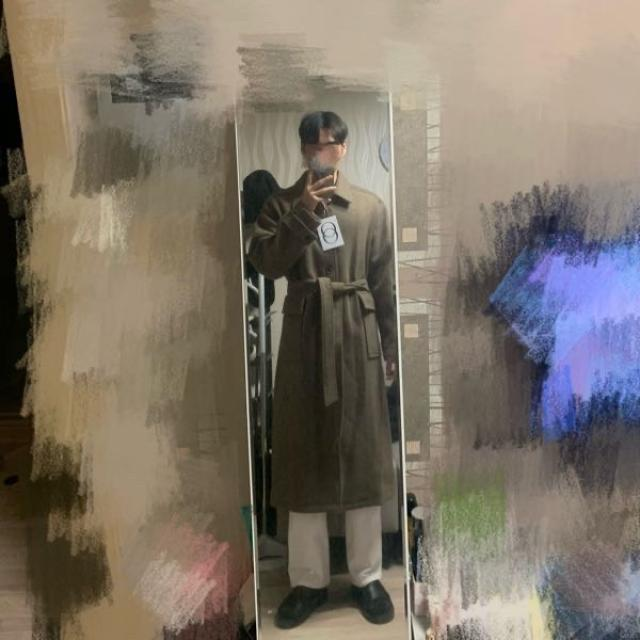coat: (249, 172, 399, 513)
cottonpants: (287, 500, 383, 589)
